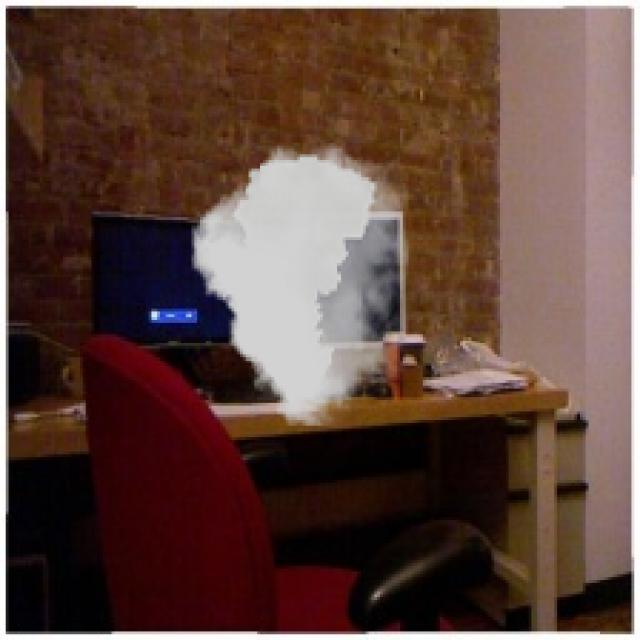smoke: (192, 143, 408, 426)
